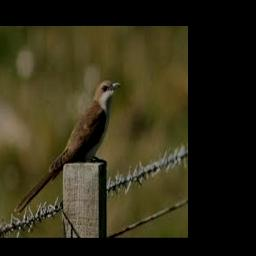Cuckoo: (15, 80, 121, 213)
